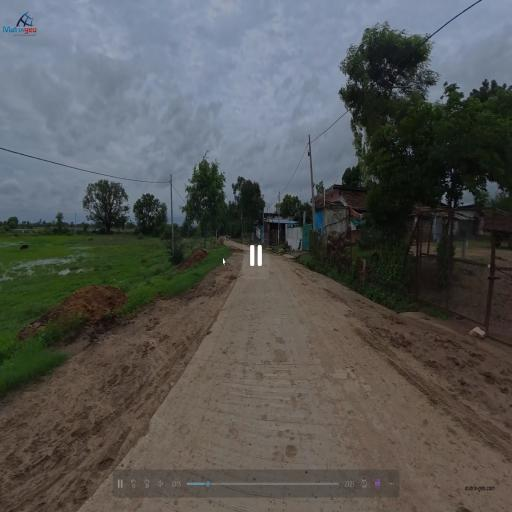ravelling: (220, 339, 352, 465)
